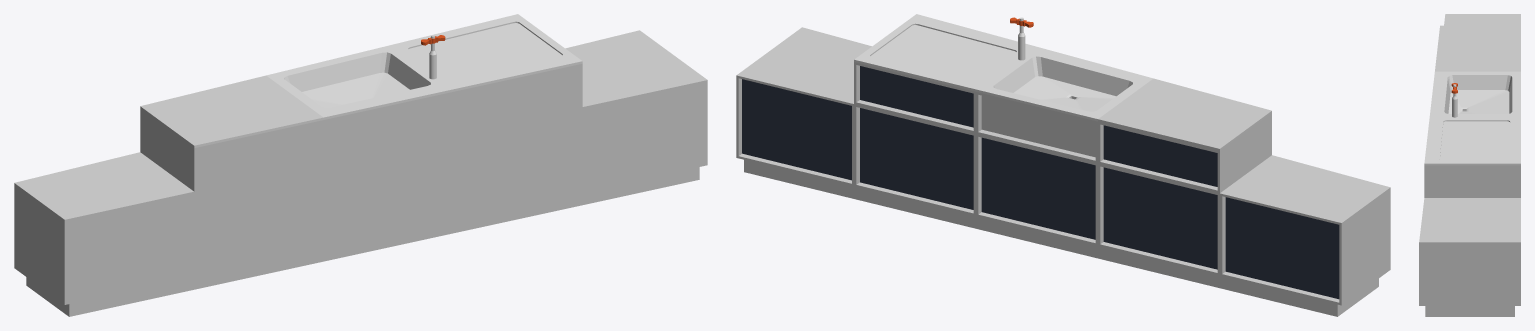
The model's file is KitchenCounter.fbx.
3 views of the same model, side by side, from view 1: azimuth 30°, elevation 25°; view 2: azimuth 150°, elevation 25°; view 3: azimuth 270°, elevation 25° (orthographic). The views are drawn at different scales.
Visible parts, largest first — view 1: KitchenCounter; view 2: KitchenCounter; view 3: KitchenCounter, Fountain.
Boxes of the visible parts, box(x1,y1,x2,y2) form: KitchenCounter: box(14, 14, 707, 316); KitchenCounter: box(736, 14, 1390, 316); KitchenCounter: box(1419, 14, 1520, 316); Fountain: box(1451, 83, 1457, 117).
Bounding box in the file's own units: 343 × 99.52 × 64.63.
